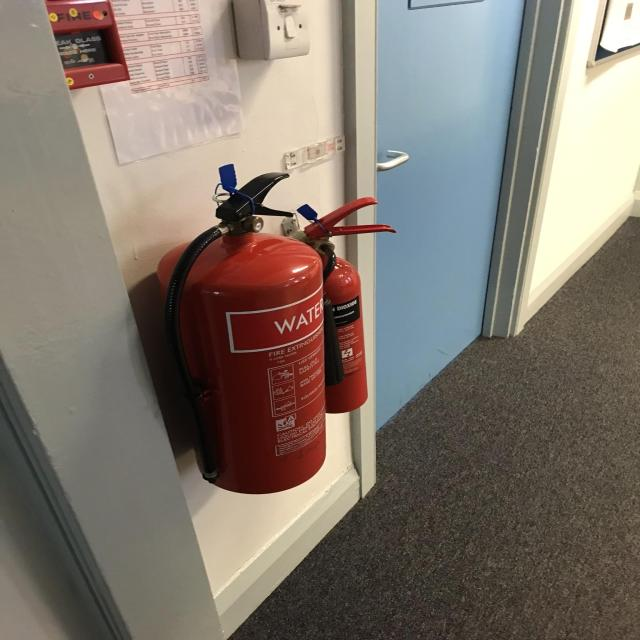fire_extinguisher: (149, 165, 333, 499), (278, 195, 398, 418)
